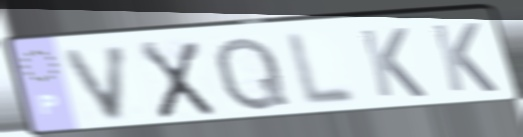K: (356, 25, 430, 100), (428, 20, 502, 95)
L: (283, 29, 361, 110)
Q: (212, 33, 294, 114)
V: (58, 41, 133, 125)
X: (134, 38, 219, 122)
